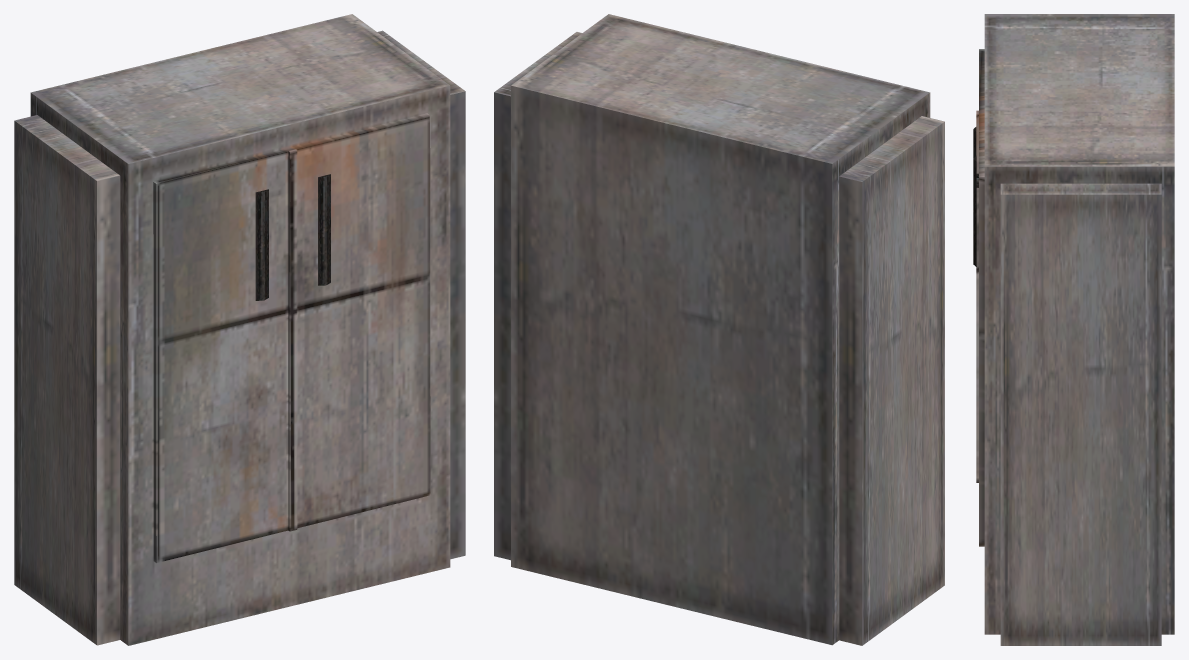
The model's file is frn_all_chep_cabinet_s01_l0.fbx.
3 renders of one model, left to right at view 1: azimuth 30°, elevation 25°; view 2: azimuth 150°, elevation 25°; view 3: azimuth 270°, elevation 25°, orthographic. The views are drawn at different scales.
Visible parts, largest first — view 1: mesh_node; view 2: mesh_node; view 3: mesh_node.
Part boxes in pixels (<box>): mesh_node: <box>14,14,465,645</box>; mesh_node: <box>494,14,944,645</box>; mesh_node: <box>973,14,1174,645</box>.
Size of the model in its own units: 1.44 by 1.8 by 0.7029.
1 material, 1 textured.
